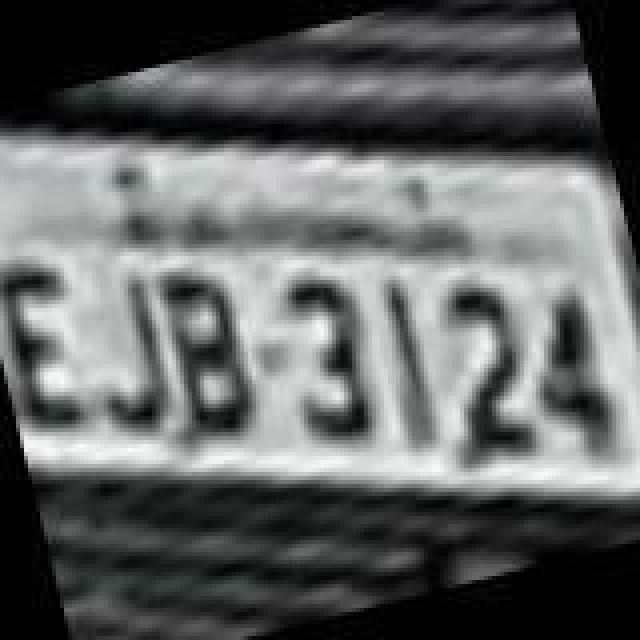1: (374, 266, 458, 454)
2: (432, 268, 552, 468)
3: (264, 260, 384, 452)
4: (518, 280, 634, 472)
B: (140, 250, 268, 446)
E: (0, 238, 104, 434)
J: (68, 264, 188, 440)
